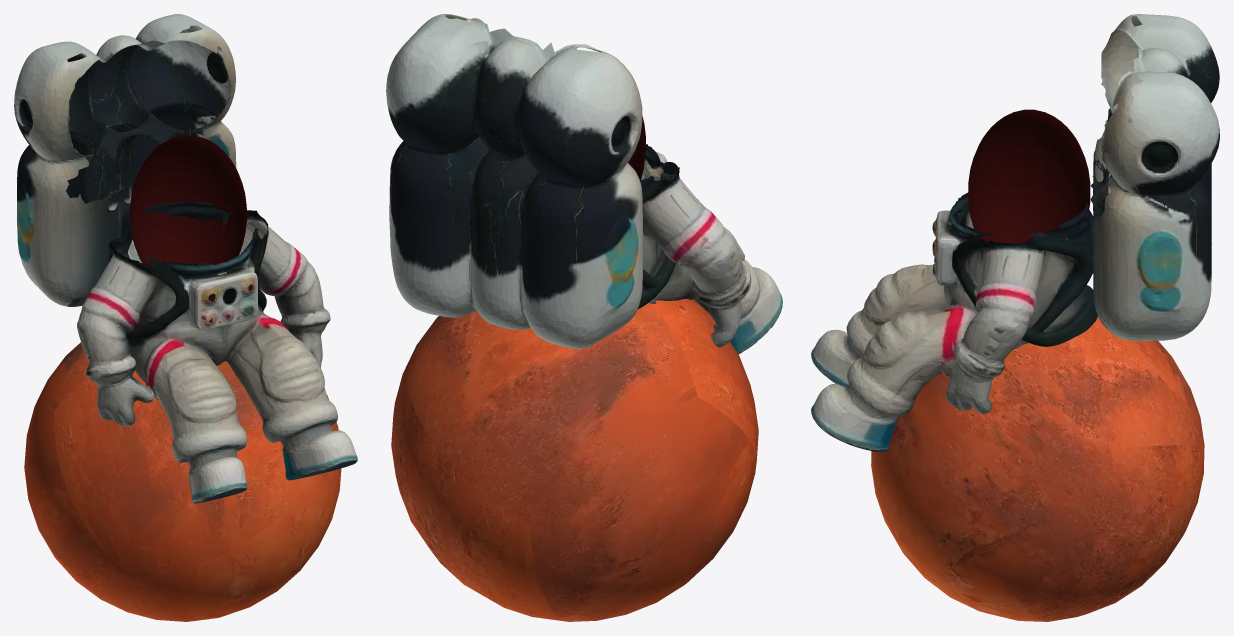
File: astro-mars.glb
The picture shows the model from 3 angles, left to right: view 1: azimuth 30°, elevation 25°; view 2: azimuth 150°, elevation 25°; view 3: azimuth 270°, elevation 25°; orthographic projection. The views are drawn at different scales.
Visible parts, largest first — view 1: Moon_Cube011_1, Moon_Cube011, Moon_Cube011_2; view 2: Moon_Cube011, Moon_Cube011_1; view 3: Moon_Cube011_1, Moon_Cube011, Moon_Cube011_2.
Boxes of the visible parts, x1,y1,x2,y2 form: Moon_Cube011_1: [14, 14, 357, 503]; Moon_Cube011: [24, 342, 341, 621]; Moon_Cube011_2: [130, 135, 246, 264]; Moon_Cube011: [391, 299, 758, 621]; Moon_Cube011_1: [386, 14, 782, 354]; Moon_Cube011_1: [811, 14, 1219, 451]; Moon_Cube011: [871, 316, 1204, 621]; Moon_Cube011_2: [968, 109, 1090, 243].
Bounding box in the file's own units: 1.07 × 1.98 × 1.32.
3 materials, 2 textured.
